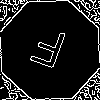F: (25, 25, 69, 78)
